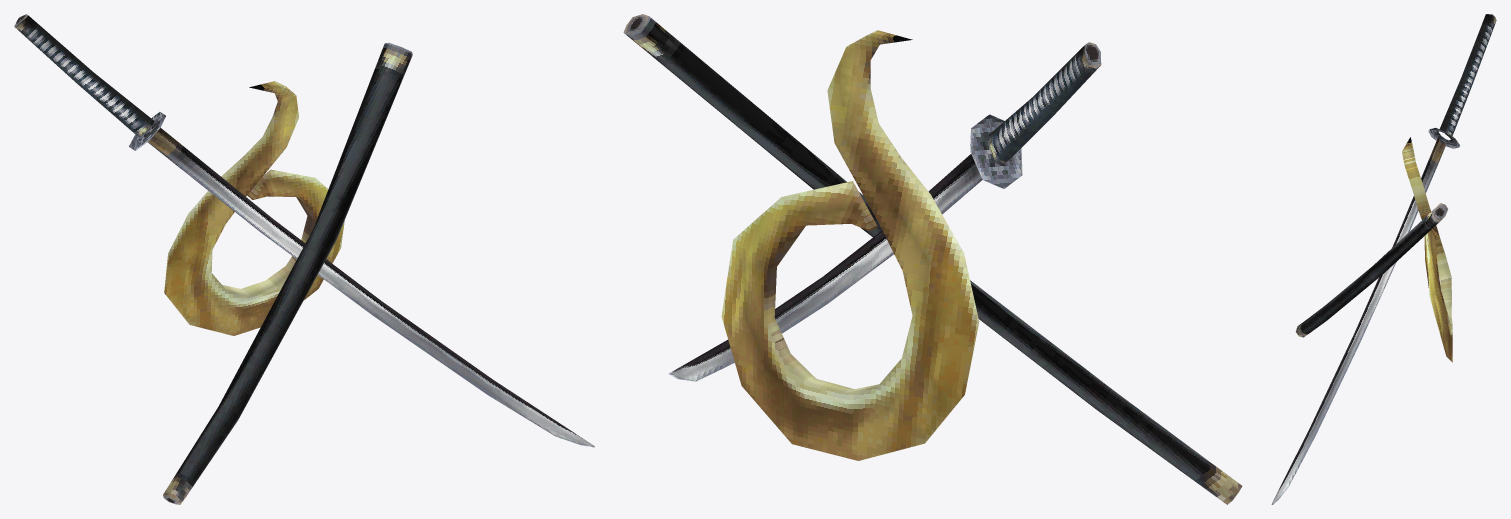
Rendered from ps2_save-icons_simple2000seriesvol118theochimushadoemusamuraitoujou.glb.
The picture shows the model from 3 angles, left to right: view 1: azimuth 30°, elevation 25°; view 2: azimuth 150°, elevation 25°; view 3: azimuth 270°, elevation 25°; orthographic projection. The views are drawn at different scales.
Visible parts, largest first — view 1: mcicon.ico; view 2: mcicon.ico; view 3: mcicon.ico.
Part boxes in pixels (box(x1,y1,x2,y2)): mcicon.ico: box(14, 14, 594, 504); mcicon.ico: box(623, 14, 1242, 504); mcicon.ico: box(1271, 14, 1496, 504).
Size of the model in its own units: 4.87 by 4.61 by 2.84.
Materials: 1 (1 with a texture image).
